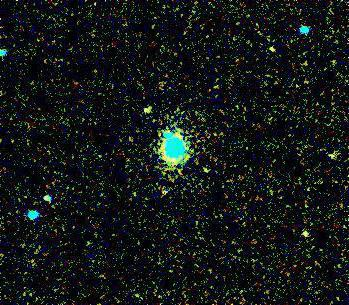star: (254, 31, 284, 61)
